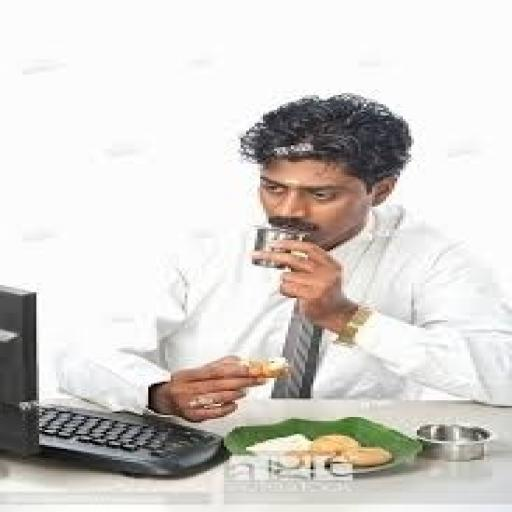eating: (53, 91, 509, 423)
